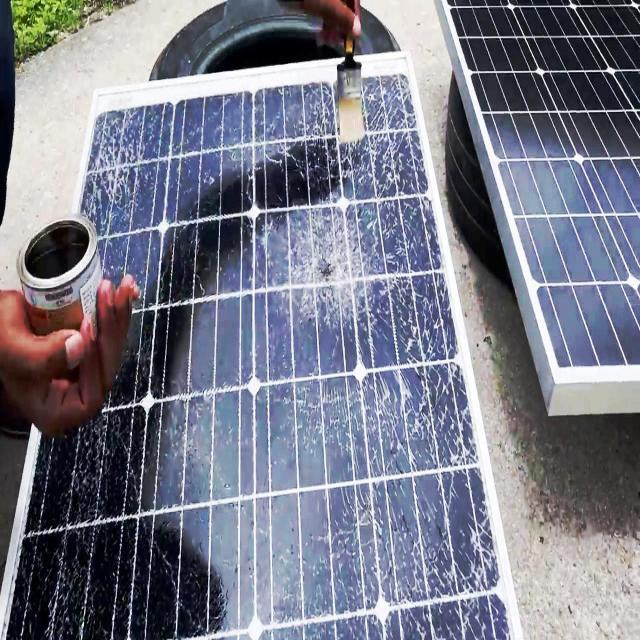faulty: (6, 60, 512, 640)
no faulty: (444, 3, 640, 384)
